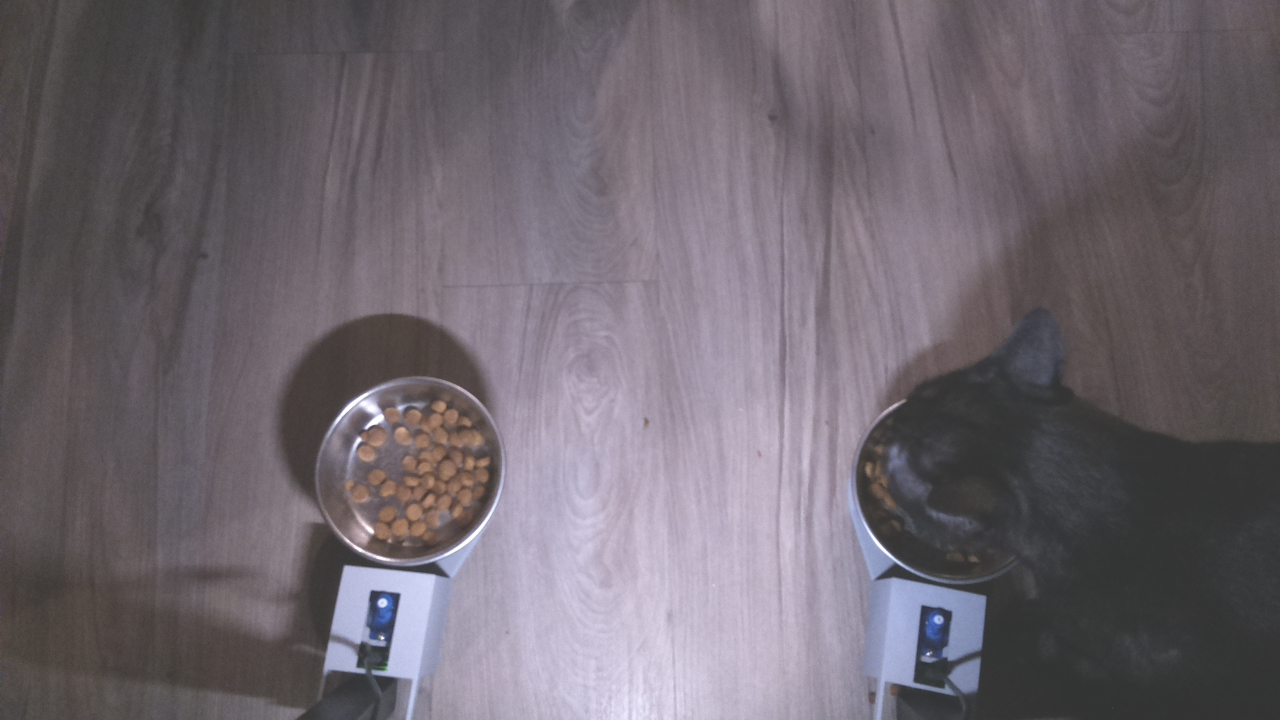open_bowl: (313, 372, 506, 572)
saki_eating: (859, 305, 1114, 598)
